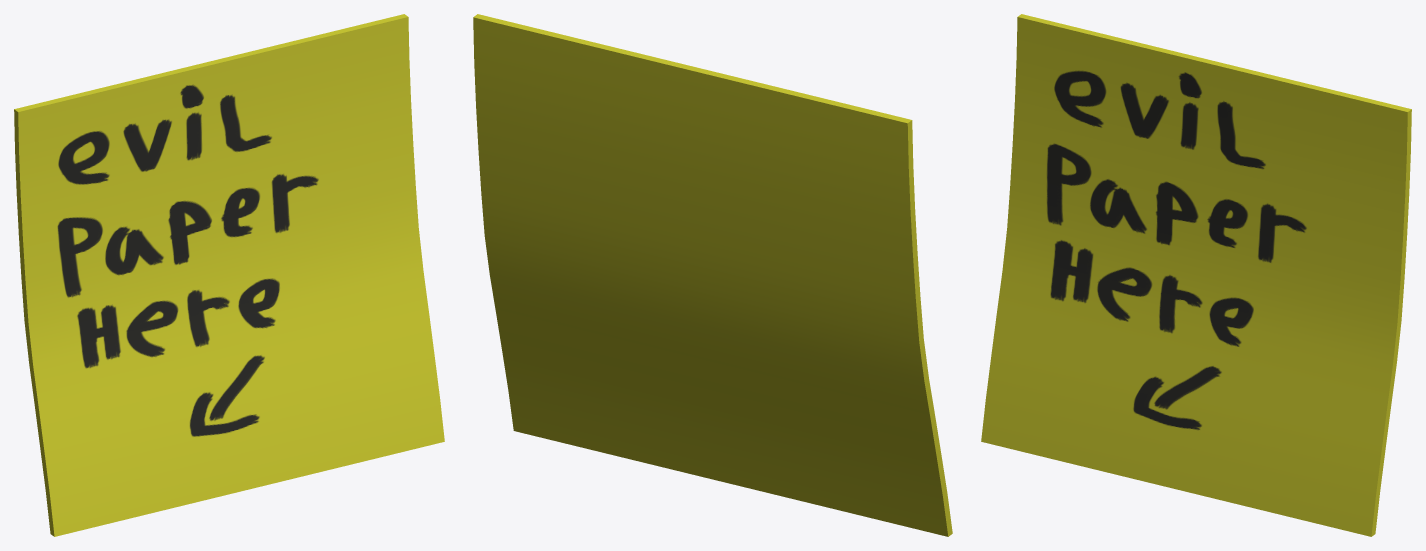
The model's file is evil paper here.fbx.
3 renders of one model, left to right at view 1: azimuth 30°, elevation 25°; view 2: azimuth 150°, elevation 25°; view 3: azimuth 330°, elevation 25°, orthographic. The views are drawn at different scales.
Visible parts, largest first — view 1: pPlane1; view 2: pPlane1; view 3: pPlane1.
Part boxes in pixels (box(x1,y1,x2,y2)): pPlane1: box(14, 14, 444, 536); pPlane1: box(473, 14, 952, 536); pPlane1: box(981, 14, 1411, 536).
Size of the model in its own units: 8.93 by 8.7 by 1.6.
